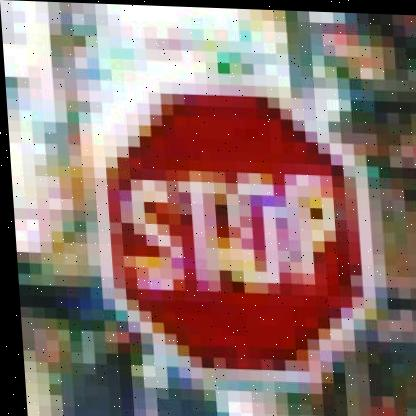Stop Sign: (84, 78, 381, 385)
